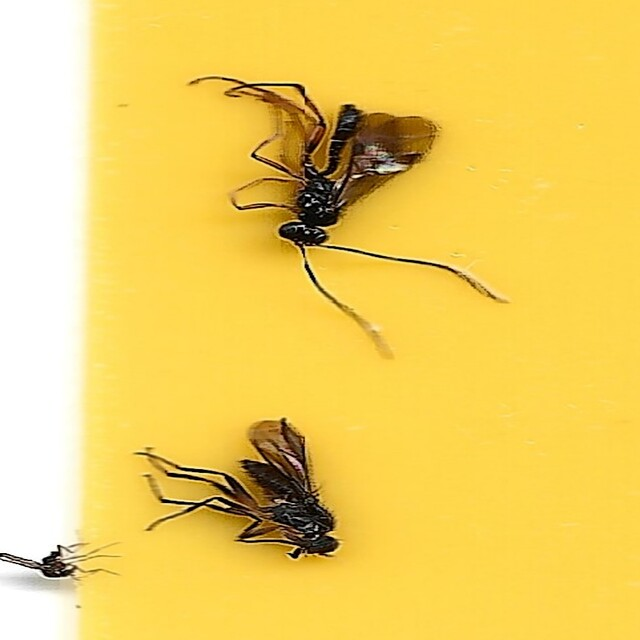Brachycera: (133, 423, 347, 566)
Hymenoptera: (204, 74, 507, 354)
